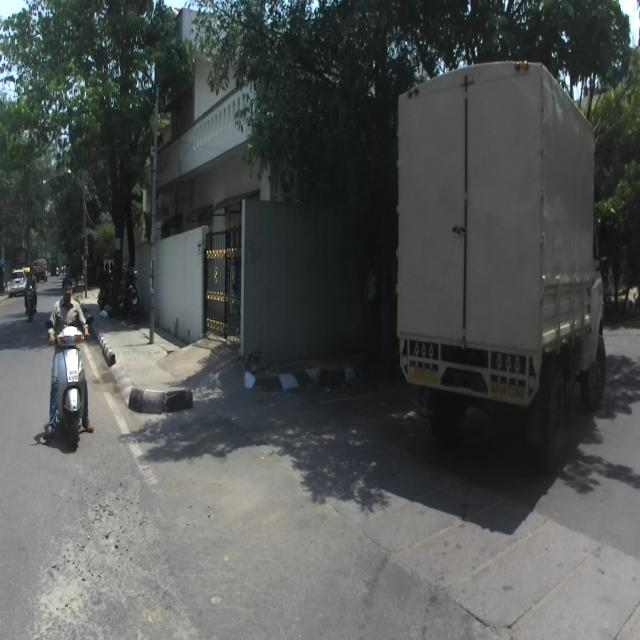electric pole ahead at: (144, 80, 169, 346)
motorcycle ahead at: (49, 316, 94, 454)
truck ahead at: (392, 48, 610, 470)
